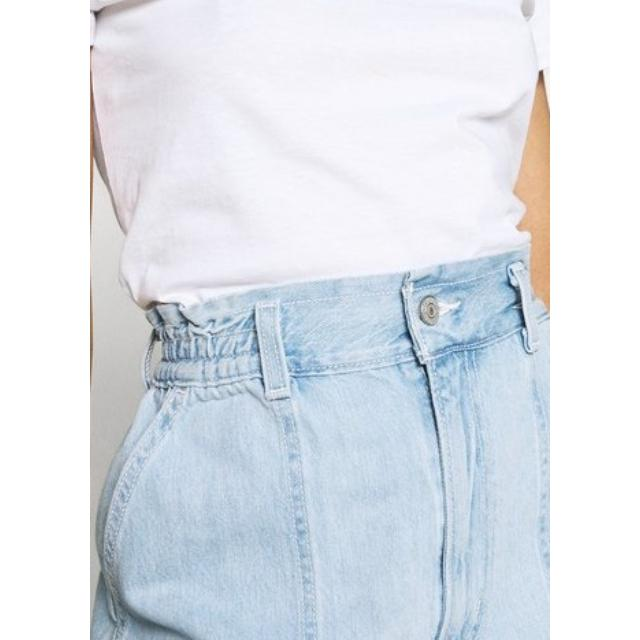denim: (112, 296, 550, 640)
